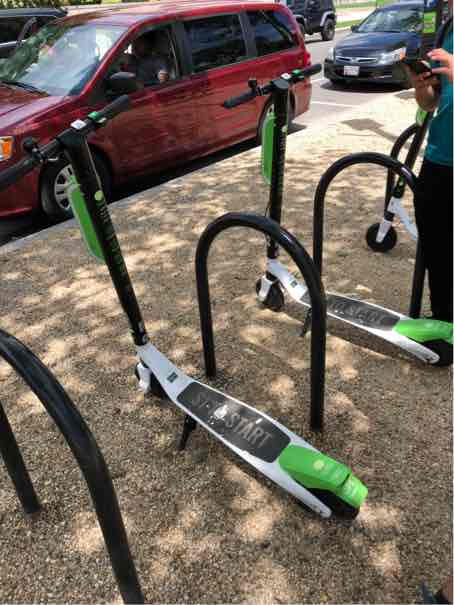scooter: (0, 106, 371, 515), (212, 58, 454, 367)
